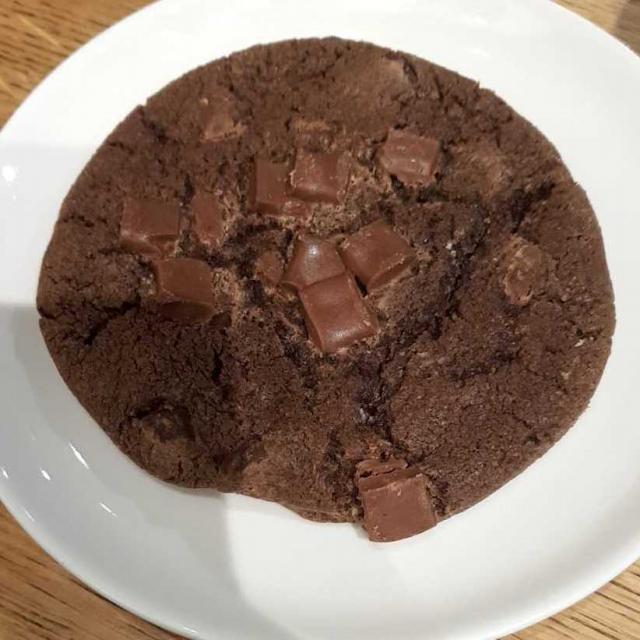cookies: (42, 39, 612, 527)
